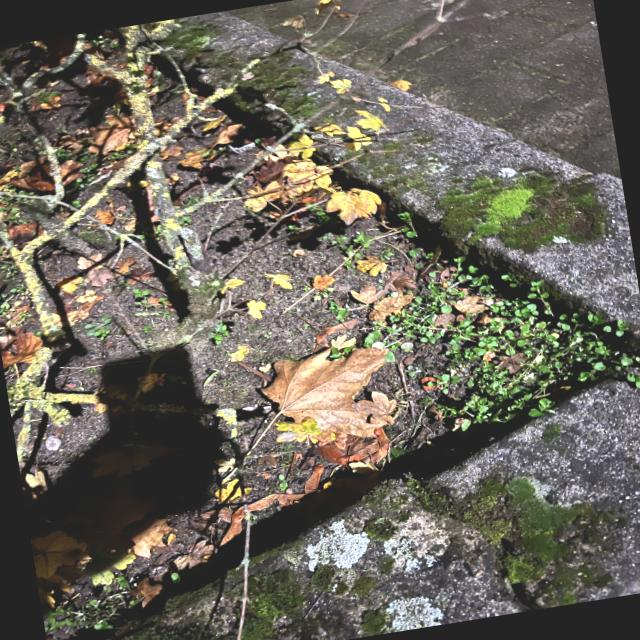pavement: (215, 0, 617, 170)
plants: (0, 20, 630, 640)
